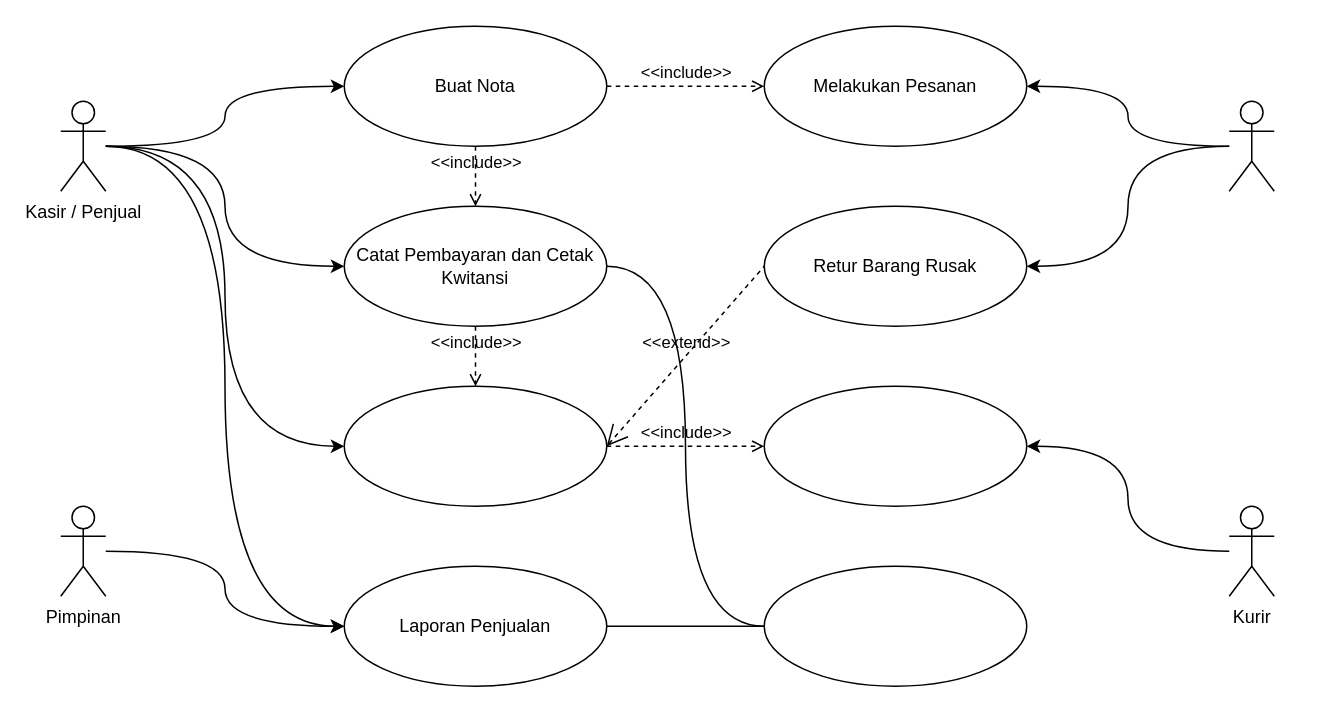
The diagram is 1320 pixels wide and 713 high, and some of its shapes have lost their labels. The shapes that lost their labels are listed below. From the top down, each one's centre as x and y in pixels, then its label:
pixel 1251 145: Pelanggan
pixel 475 445: Buat Surat Jalan
pixel 895 445: Proses Pengiriman
pixel 895 625: Kelola Stok
